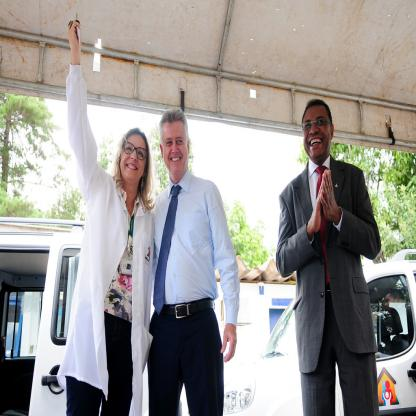Car: (367, 248, 416, 416)
